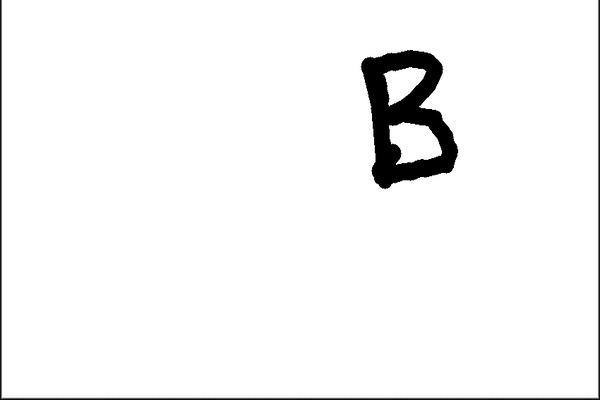B: (345, 42, 473, 197)
